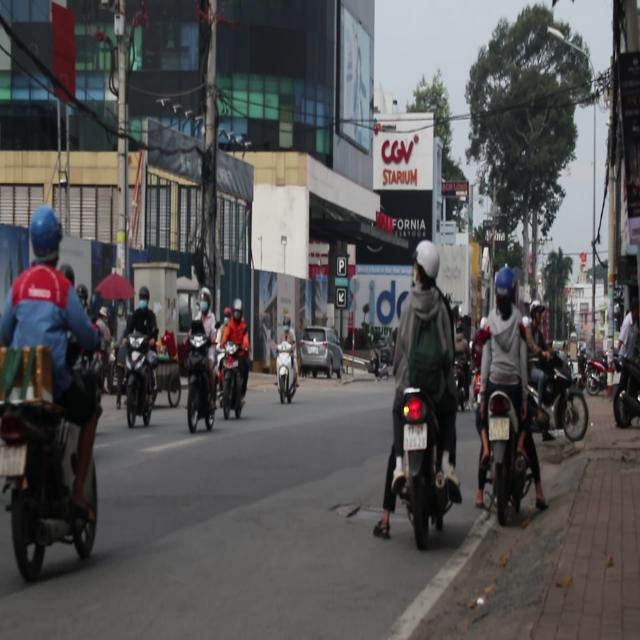car: (298, 325, 344, 379)
motorbike: (0, 389, 102, 588), (394, 385, 461, 566), (487, 393, 536, 527), (530, 355, 589, 441), (120, 330, 156, 433), (187, 332, 215, 438), (219, 335, 245, 422), (276, 335, 300, 405), (584, 352, 610, 396)
